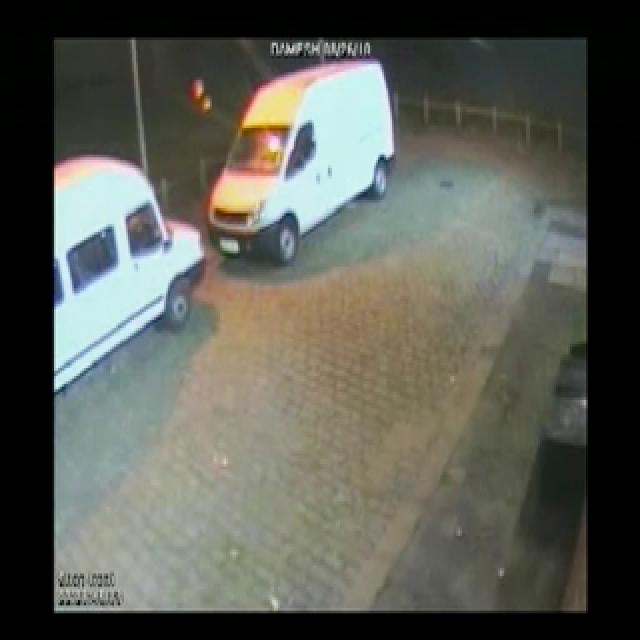arson: (130, 0, 444, 475)
